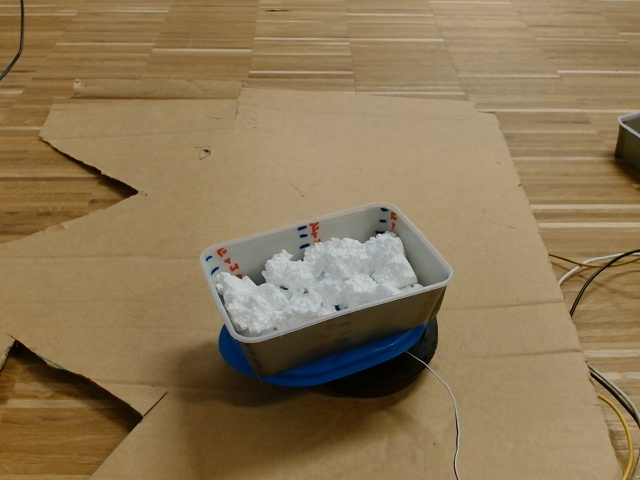Small_half: (203, 206, 452, 341)
